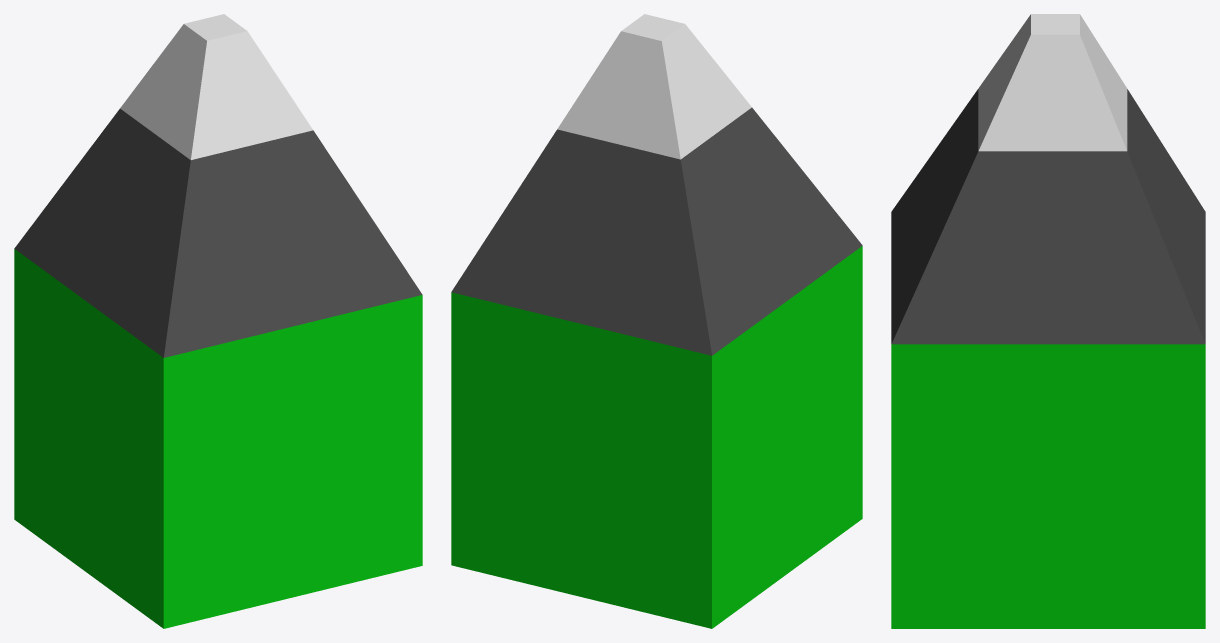
File: mountain.gltf
3 renders of one model, left to right at view 1: azimuth 30°, elevation 25°; view 2: azimuth 150°, elevation 25°; view 3: azimuth 270°, elevation 25°, orthographic. The views are drawn at different scales.
Parts seen in each view (by area): view 1: Mountain; view 2: Mountain; view 3: Mountain.
Part boxes in pixels (x1,y1,x2,y2): Mountain: [14, 14, 422, 628]; Mountain: [451, 14, 862, 628]; Mountain: [891, 14, 1205, 628].
Size of the model in its own units: 2 by 3.78 by 2.
